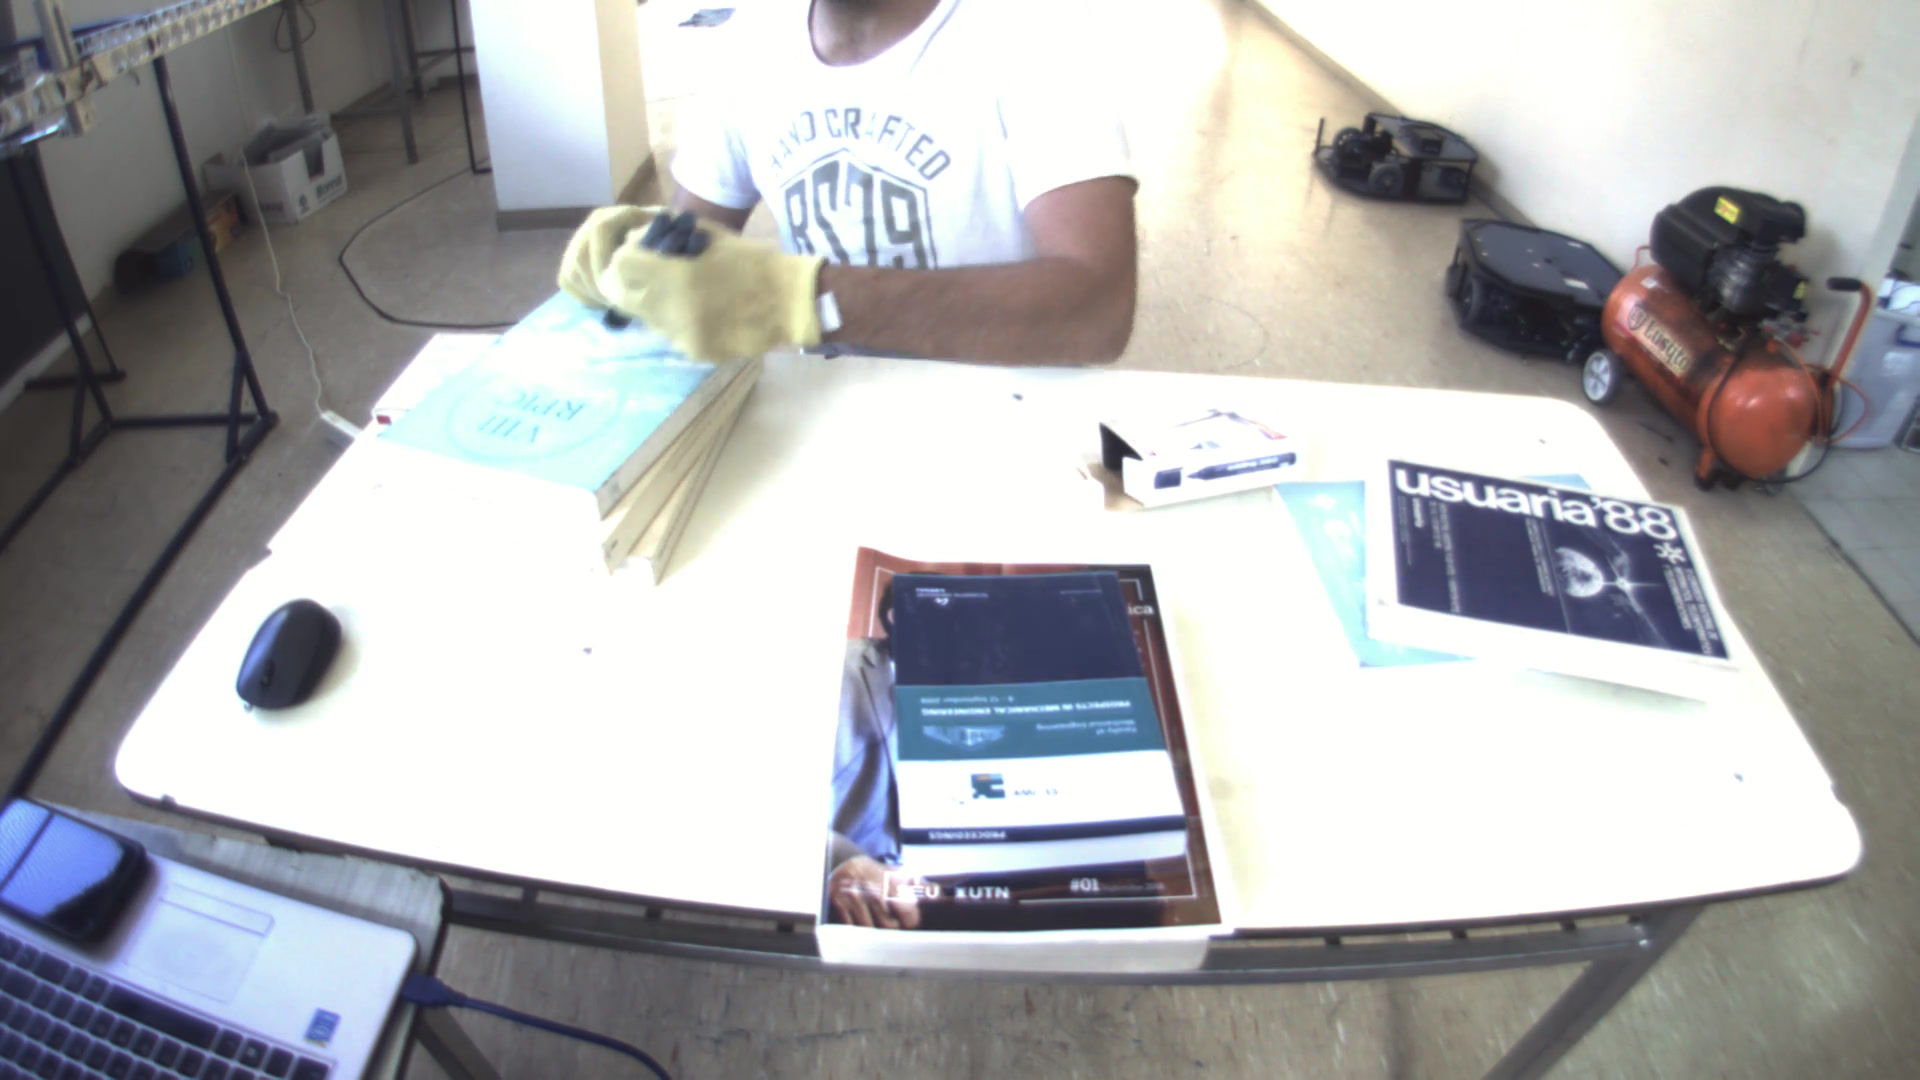hand: (582, 206, 835, 364)
